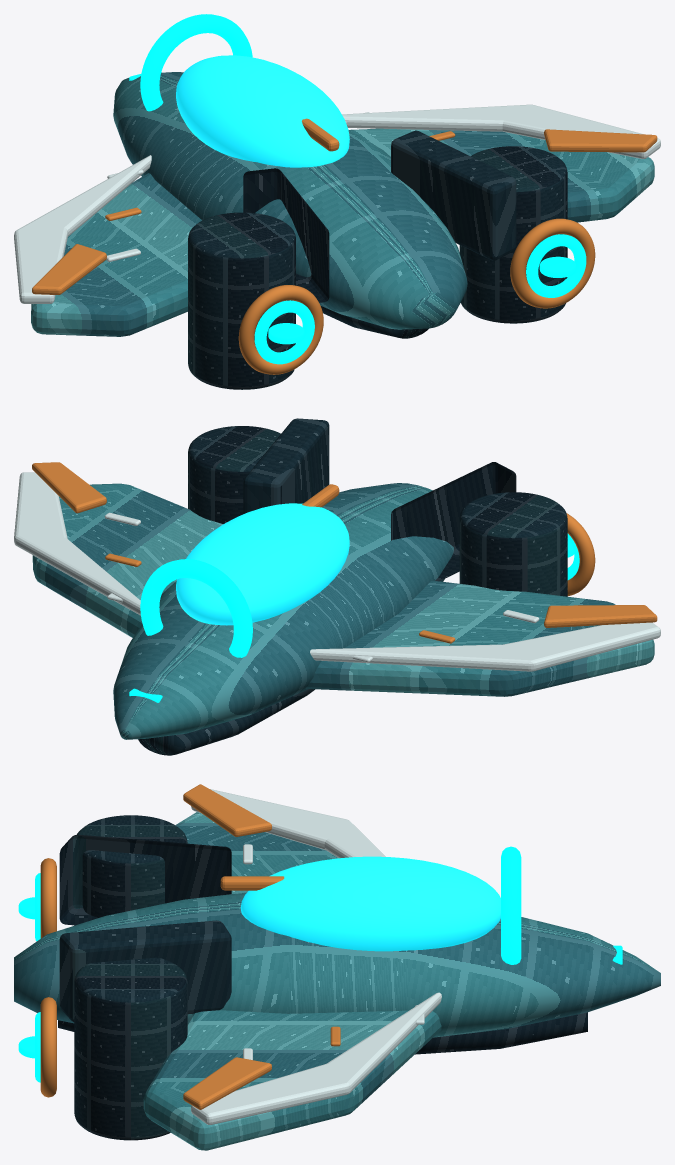
File: pulseRunnerCraft.0146f91b.glb
3 renders of one model, top to bottom at view 1: azimuth 30°, elevation 25°; view 2: azimuth 150°, elevation 25°; view 3: azimuth 270°, elevation 25°, orthographic. The views are drawn at different scales.
Visible parts, largest first — view 1: V11 runner continuous arrowhead fuselage, V11 runner swept delta wing -1, V11 runner recessed turbine nacelle -1, V11 runner integrated cockpit canopy, V11 runner dorsal stabilizer 1, V11 runner recessed turbine nacelle 1, V11 runner swept delta wing 1, V11 runner ceramic leading edge 1, V11 runner ceramic leading edge -1, V11 runner dorsal stabilizer -1, V11 runner forward shield collar, V11 runner turbine copper race 1 (+9 smaller); view 2: V11 runner continuous arrowhead fuselage, V11 runner swept delta wing -1, V11 runner integrated cockpit canopy, V11 runner swept delta wing 1, V11 runner recessed turbine nacelle -1, V11 runner ceramic leading edge -1, V11 runner recessed turbine nacelle 1, V11 runner dorsal stabilizer 1, V11 runner ceramic leading edge 1, V11 runner dorsal stabilizer -1, V11 runner forward shield collar, V11 runner ventral armored keel (+3 smaller); view 3: V11 runner continuous arrowhead fuselage, V11 runner integrated cockpit canopy, V11 runner swept delta wing 1, V11 runner recessed turbine nacelle 1, V11 runner dorsal stabilizer 1, V11 runner ceramic leading edge 1, V11 runner recessed turbine nacelle -1, V11 runner dorsal stabilizer -1, V11 runner swept delta wing -1, V11 runner ceramic leading edge -1, V11 runner ventral armored keel, V11 runner forward shield collar (+5 smaller).
Boxes of the visible parts, x1,y1,x2,y2 form: V11 runner continuous arrowhead fuselage: (113, 72, 467, 329); V11 runner swept delta wing -1: (31, 173, 201, 336); V11 runner recessed turbine nacelle -1: (188, 212, 295, 389); V11 runner integrated cockpit canopy: (176, 55, 349, 167); V11 runner dorsal stabilizer 1: (391, 130, 516, 260); V11 runner recessed turbine nacelle 1: (459, 146, 567, 323); V11 runner swept delta wing 1: (349, 128, 654, 222); V11 runner ceramic leading edge 1: (342, 104, 660, 158); V11 runner ceramic leading edge -1: (14, 155, 151, 303); V11 runner dorsal stabilizer -1: (243, 168, 329, 302); V11 runner forward shield collar: (140, 14, 252, 111); V11 runner turbine copper race 1: (510, 218, 595, 308); V11 runner continuous arrowhead fuselage: (113, 483, 453, 739); V11 runner swept delta wing -1: (305, 580, 654, 696); V11 runner integrated cockpit canopy: (176, 503, 349, 625); V11 runner swept delta wing 1: (32, 483, 222, 637); V11 runner recessed turbine nacelle -1: (459, 492, 567, 596); V11 runner ceramic leading edge -1: (310, 622, 660, 671); V11 runner recessed turbine nacelle 1: (188, 426, 280, 523); V11 runner dorsal stabilizer 1: (243, 418, 329, 513); V11 runner ceramic leading edge 1: (14, 472, 140, 615); V11 runner dorsal stabilizer -1: (391, 462, 516, 581); V11 runner forward shield collar: (140, 559, 252, 657); V11 runner ventral armored keel: (138, 689, 314, 755); V11 runner continuous arrowhead fuselage: (14, 892, 660, 1037); V11 runner integrated cockpit canopy: (240, 856, 500, 951); V11 runner swept delta wing 1: (143, 1010, 441, 1150); V11 runner recessed turbine nacelle 1: (74, 957, 187, 1140); V11 runner dorsal stabilizer 1: (59, 920, 231, 1022); V11 runner ceramic leading edge 1: (191, 992, 441, 1124); V11 runner recessed turbine nacelle -1: (74, 815, 187, 925); V11 runner dorsal stabilizer -1: (59, 834, 231, 925); V11 runner swept delta wing -1: (175, 812, 337, 893); V11 runner ceramic leading edge -1: (191, 789, 385, 858); V11 runner ventral armored keel: (58, 1012, 587, 1054); V11 runner forward shield collar: (501, 846, 521, 964).
Bounding box in the file's own units: 4.24 × 1.19 × 3.54.
6 materials, 2 textured.
